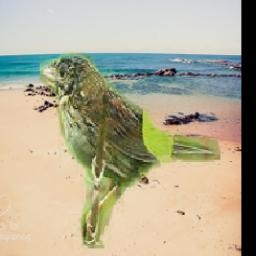Sparrow: (41, 52, 222, 248)
